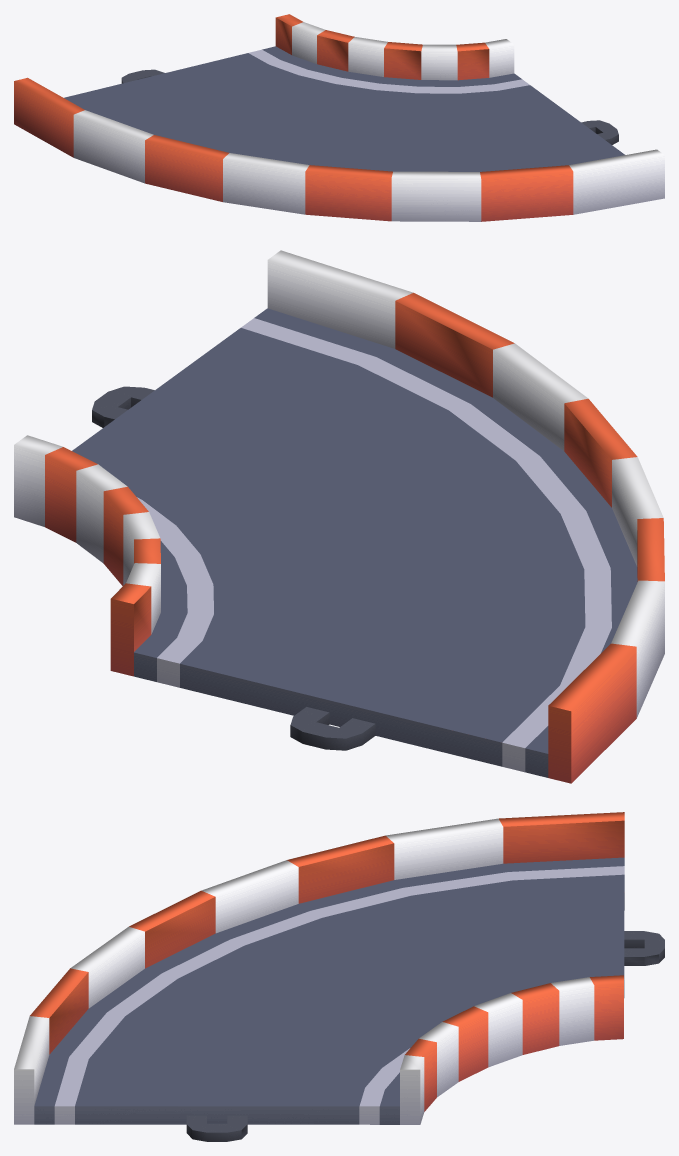
File: track-road-wide-corner-small.004_lev1.glb
3 renders of one model, top to bottom at view 1: azimuth 30°, elevation 25°; view 2: azimuth 150°, elevation 25°; view 3: azimuth 270°, elevation 25°, orthographic. The views are drawn at different scales.
Visible parts, largest first — view 1: track-road-wide-corner-small.004_lev1; view 2: track-road-wide-corner-small.004_lev1; view 3: track-road-wide-corner-small.004_lev1.
Part boxes in pixels (left/top/right/bottom): track-road-wide-corner-small.004_lev1: left=14, top=14, right=664, bottom=221; track-road-wide-corner-small.004_lev1: left=14, top=250, right=664, bottom=783; track-road-wide-corner-small.004_lev1: left=14, top=812, right=664, bottom=1141.
Bounding box in the file's own units: 3.2 × 0.3 × 3.2.
Materials: 1 (1 with a texture image).
